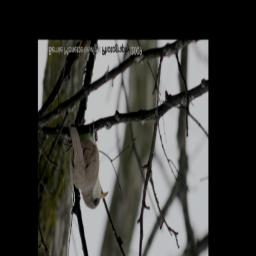Cuckoo: (68, 121, 108, 210)
